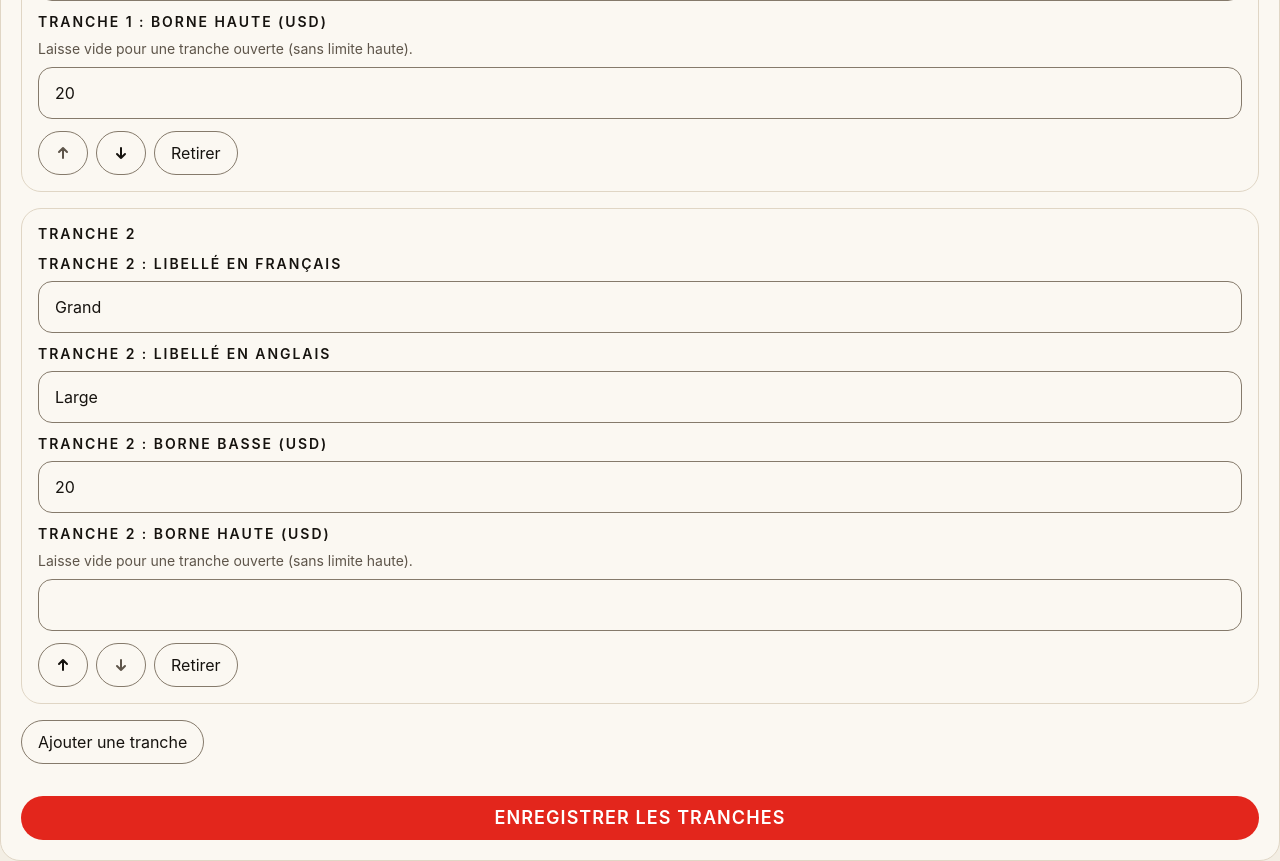
Scenario: EditeurTranchesPrix › erreur de tranche : résumé role=alert, champ marqué et relié, saisie conservée, aucun succès
The image size is (1280, 861).
(page scrolled)
Click the button "Enregistrer les tranches" at (640, 818), box [21,796,1259,840]
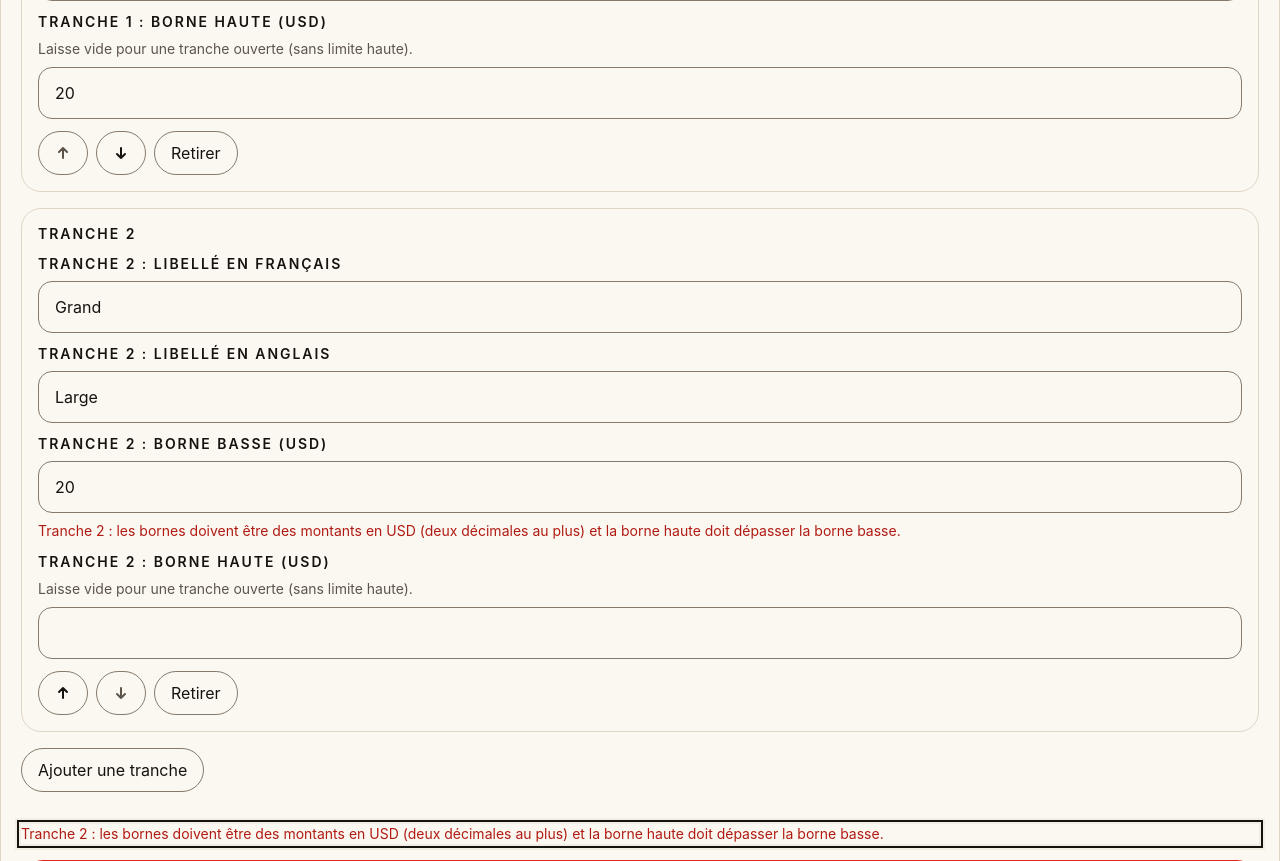
Expected: the field labelled "Tranche 2 : borne basse (USD)" holds "20", [38,461,1242,513]
Result: the message shows "Tranche 2 : les bornes doivent être" at [21,825,884,842]
